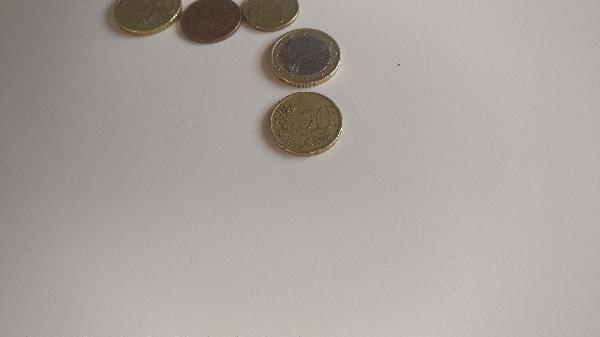Fifty Cent: (111, 1, 181, 34)
Five Cent: (180, 1, 241, 42)
One Euro: (271, 28, 342, 89)
Twenty Cent: (266, 90, 346, 154)
